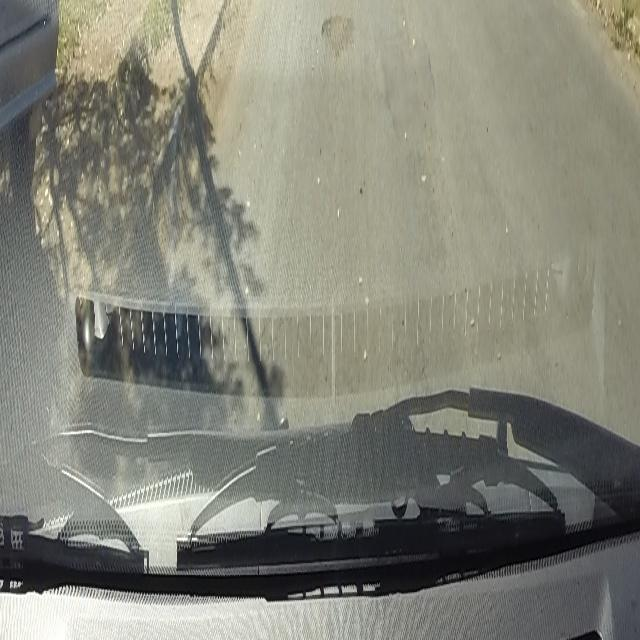pothole: (321, 8, 354, 61)
